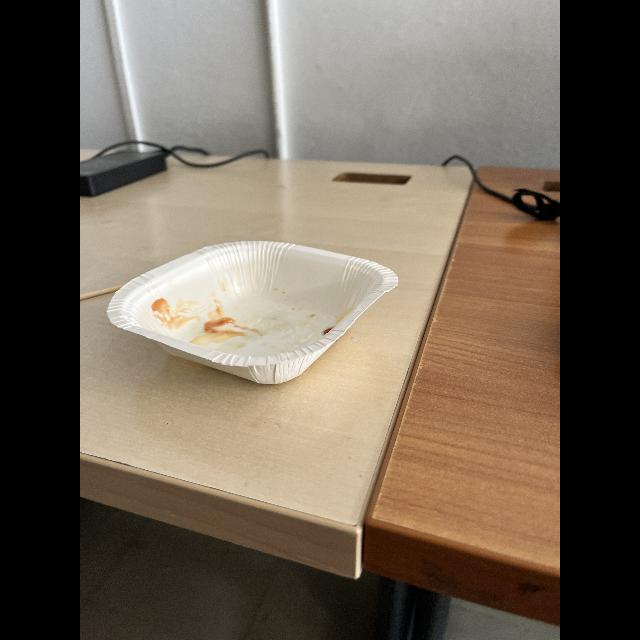cardboard_bowl: (104, 236, 408, 392)
stick: (80, 284, 122, 304)
